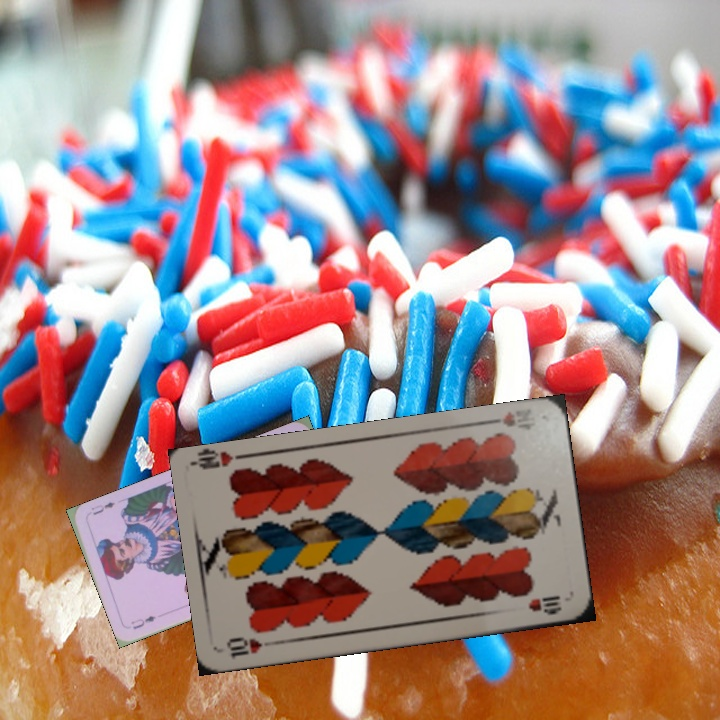EU: (127, 611, 158, 632)
H10: (222, 633, 280, 660), (482, 408, 518, 430)
